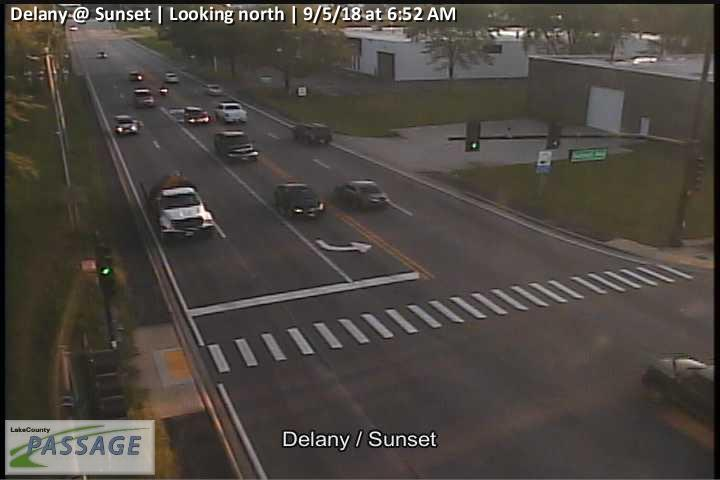Motorbike: (159, 85, 168, 95)
SUV: (213, 129, 262, 166), (292, 121, 333, 149), (112, 111, 145, 139), (132, 86, 155, 108), (128, 70, 143, 80)
Sedan: (274, 182, 326, 222), (337, 178, 392, 214), (179, 102, 214, 129), (216, 98, 249, 124), (206, 81, 225, 98), (163, 71, 179, 82)
Truck: (143, 169, 216, 242)
